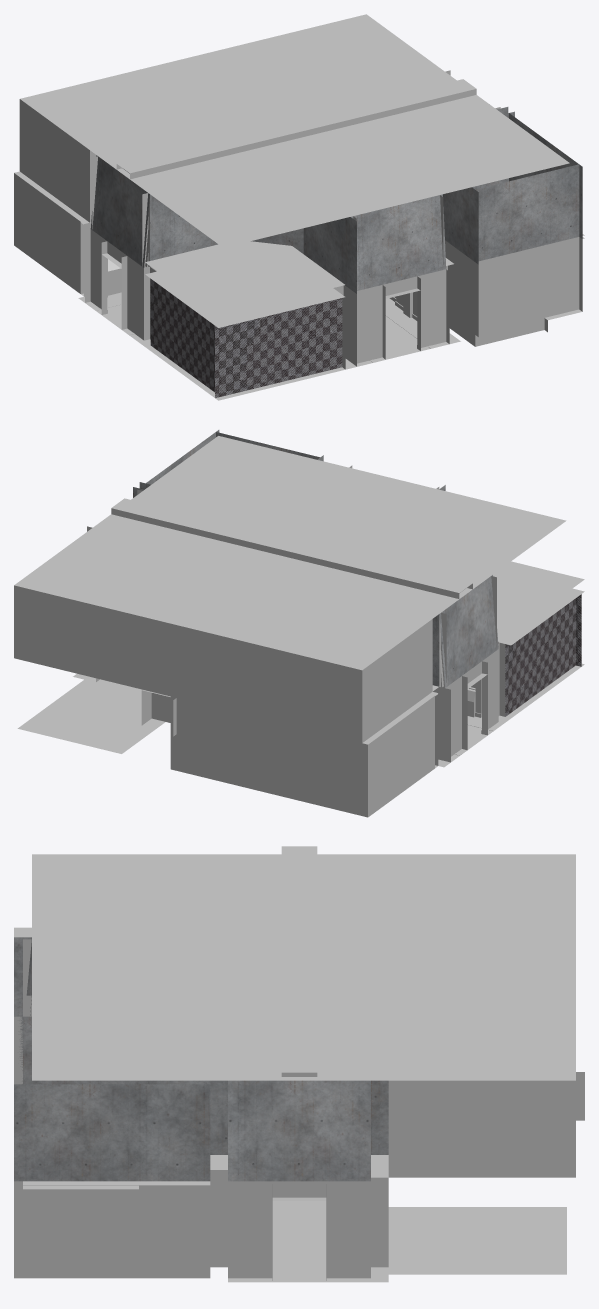
Rendered from room3_scps01_lcz.fbx.
The picture shows the model from 3 angles, top to bottom: view 1: azimuth 30°, elevation 25°; view 2: azimuth 150°, elevation 25°; view 3: azimuth 270°, elevation 25°; orthographic projection. The views are drawn at different scales.
Parts seen in each view (by area): view 1: concretefloor, whitewall, testwall2, fabric_checker, tilefloor, concretewall, metalpanels; view 2: concretefloor, whitewall, testwall2, fabric_checker, metalpanels; view 3: concretefloor, whitewall, testwall2, tilefloor, metal3, metal_darkerer.
Boxes of the visible parts, x1=… form: concretefloor: x1=20, y1=14, x2=569, y2=400; whitewall: x1=14, y1=99, x2=582, y2=369; testwall2: x1=90, y1=107, x2=582, y2=293; fabric_checker: x1=150, y1=279, x2=342, y2=398; tilefloor: x1=96, y1=304, x2=581, y2=362; concretewall: x1=449, y1=316, x2=547, y2=346; metalpanels: x1=92, y1=70, x2=500, y2=317; concretefloor: x1=14, y1=436, x2=584, y2=768; whitewall: x1=14, y1=585, x2=505, y2=817; testwall2: x1=133, y1=430, x2=498, y2=687; fabric_checker: x1=505, y1=594, x2=581, y2=716; metalpanels: x1=87, y1=465, x2=496, y2=687; concretefloor: x1=14, y1=846, x2=575, y2=1282; whitewall: x1=14, y1=1016, x2=584, y2=1280; testwall2: x1=14, y1=937, x2=388, y2=1181; tilefloor: x1=255, y1=1201, x2=343, y2=1282; metal3: x1=23, y1=1181, x2=210, y2=1189; metal_darkerer: x1=32, y1=858, x2=388, y2=1177.
Bounding box in the file's own units: 20.48 × 8.64 × 20.48.
